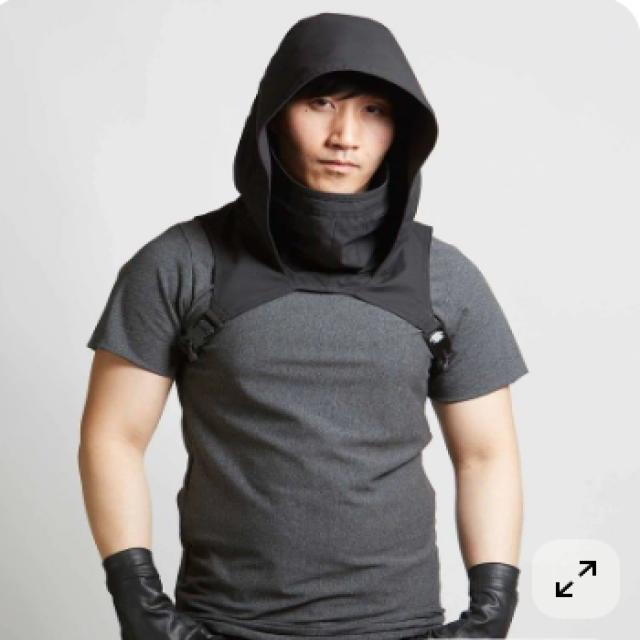4_capucha: (232, 12, 441, 219)
